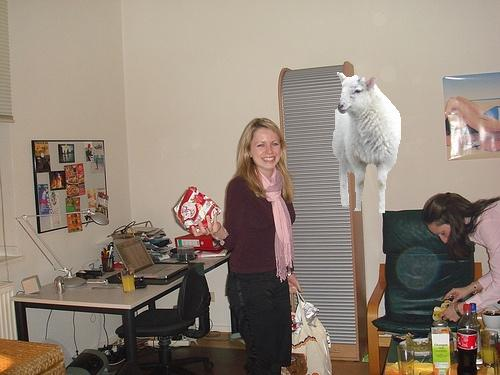tampered: (333, 73, 401, 213)
